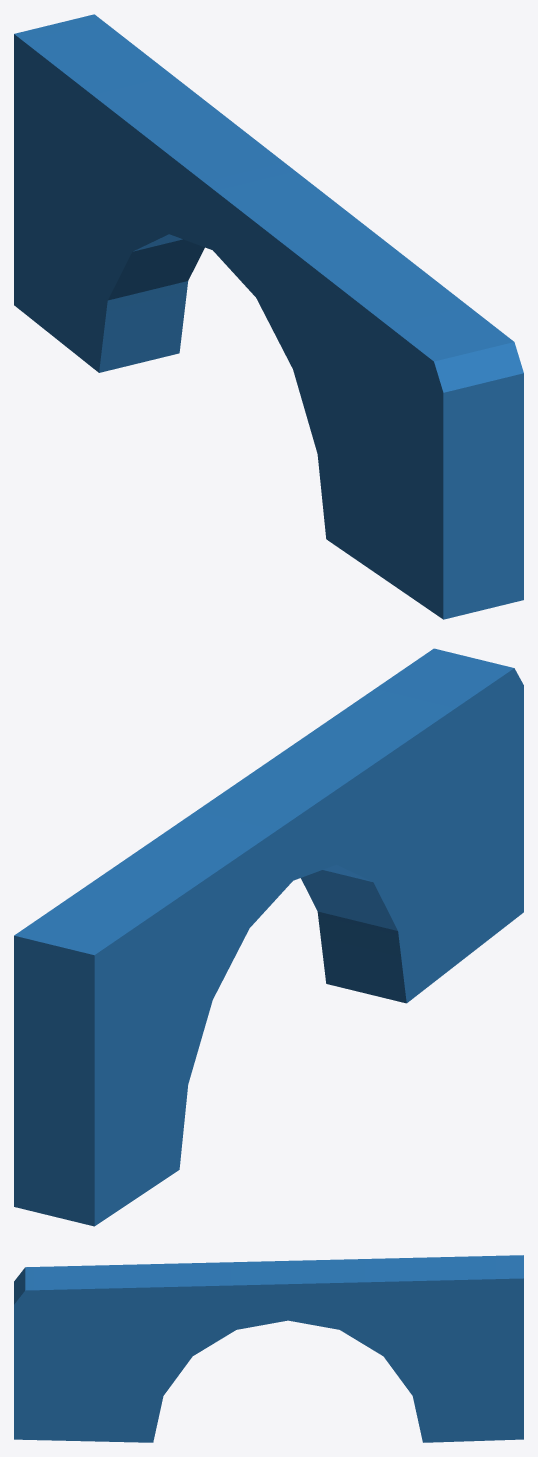
Rendered from hana_roadster_fender_left.glb.
3 views of the same model, one above another, from view 1: azimuth 30°, elevation 25°; view 2: azimuth 150°, elevation 25°; view 3: azimuth 270°, elevation 25° (orthographic). The views are drawn at different scales.
Visible parts, largest first — view 1: hana_roadster_fender_left; view 2: hana_roadster_fender_left; view 3: hana_roadster_fender_left.
Boxes of the visible parts, x1,y1,x2,y2 form: hana_roadster_fender_left: (14,14,523,619); hana_roadster_fender_left: (14,648,523,1226); hana_roadster_fender_left: (14,1255,523,1442).
Size of the model in its own units: 0.1529 by 0.5025 by 1.41.
